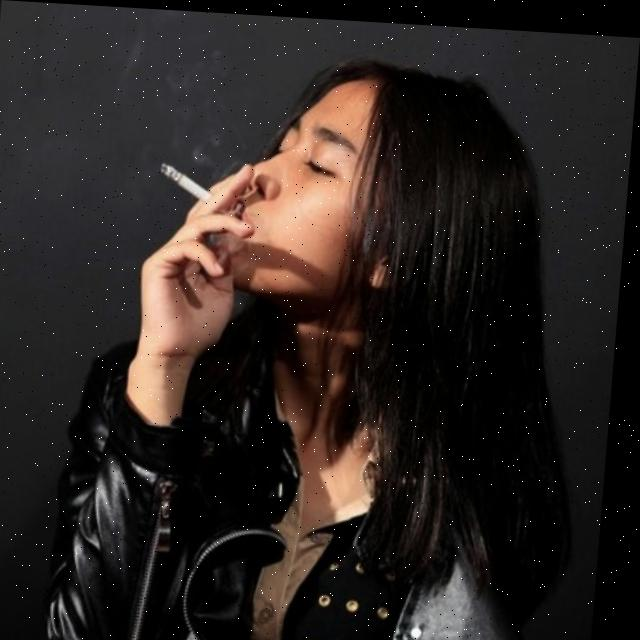cigarette: (161, 161, 219, 200)
